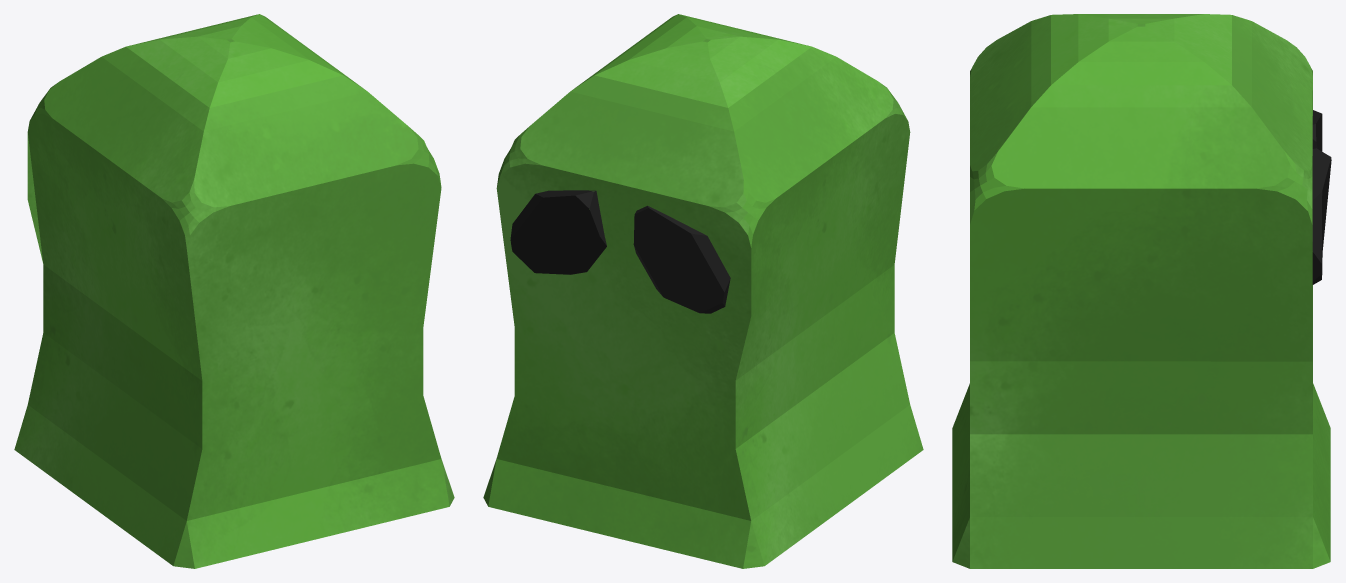
Rendered from ghostTwo.fbx.
3 renders of one model, left to right at view 1: azimuth 30°, elevation 25°; view 2: azimuth 150°, elevation 25°; view 3: azimuth 270°, elevation 25°, orthographic. The views are drawn at different scales.
Parts seen in each view (by area): view 1: Cube; view 2: Cube; view 3: Cube.
Part boxes in pixels (x1=…): Cube: x1=14, y1=14, x2=454, y2=568; Cube: x1=483, y1=14, x2=923, y2=568; Cube: x1=952, y1=14, x2=1331, y2=568.
Size of the model in its own units: 0.8067 by 1.19 by 0.8733.
1 material, 1 textured.
